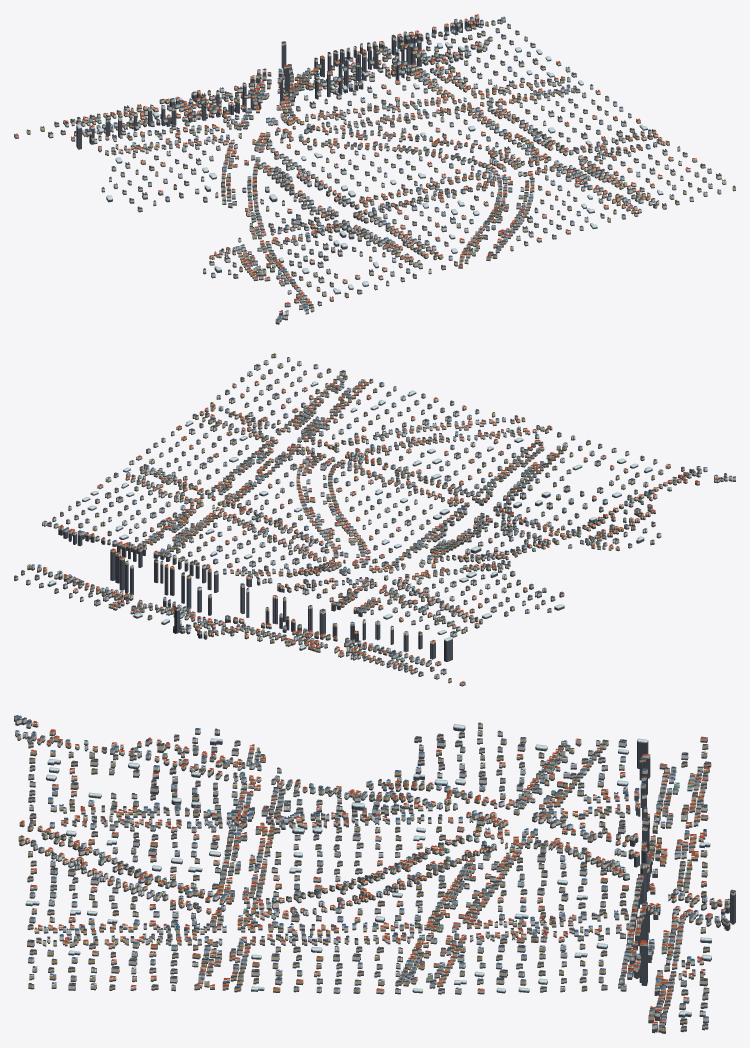
Rendered from osm_buildings_T_E00_S02.glb.
The picture shows the model from 3 angles, top to bottom: view 1: azimuth 30°, elevation 25°; view 2: azimuth 150°, elevation 25°; view 3: azimuth 270°, elevation 25°; orthographic projection. The views are drawn at different scales.
Parts seen in each view (by area): view 1: OSM_T_E00_S02_foundation, OSM_T_E00_S02_wall_cream_stucco, OSM_T_E00_S02_wall_french_ochre, OSM_T_E00_S02_roof_mansard_slate, OSM_T_E00_S02_roof_terracotta, OSM_T_E00_S02_wall_warm_white, OSM_T_E00_S02_roof_alpine_blue, OSM_T_E00_S02_wall_pastel_sand, OSM_T_E00_S02_roof_mansard_deck, OSM_T_E00_S02_greenhouse_blend, OSM_T_E00_S02_balcony_railing; view 2: OSM_T_E00_S02_foundation, OSM_T_E00_S02_wall_cream_stucco, OSM_T_E00_S02_wall_french_ochre, OSM_T_E00_S02_roof_mansard_slate, OSM_T_E00_S02_roof_terracotta, OSM_T_E00_S02_wall_warm_white, OSM_T_E00_S02_roof_alpine_blue, OSM_T_E00_S02_wall_pastel_sand, OSM_T_E00_S02_roof_mansard_deck, OSM_T_E00_S02_greenhouse_blend, OSM_T_E00_S02_balcony_railing; view 3: OSM_T_E00_S02_foundation, OSM_T_E00_S02_wall_cream_stucco, OSM_T_E00_S02_wall_french_ochre, OSM_T_E00_S02_roof_mansard_slate, OSM_T_E00_S02_roof_terracotta, OSM_T_E00_S02_wall_warm_white, OSM_T_E00_S02_roof_alpine_blue, OSM_T_E00_S02_wall_pastel_sand, OSM_T_E00_S02_roof_mansard_deck, OSM_T_E00_S02_greenhouse_blend, OSM_T_E00_S02_balcony_railing, OSM_T_E00_S02_glass_blend_85.
Part boxes in pixels (bbox=[...]): OSM_T_E00_S02_foundation: bbox=[14, 18, 735, 324]; OSM_T_E00_S02_wall_cream_stucco: bbox=[70, 15, 726, 322]; OSM_T_E00_S02_wall_french_ochre: bbox=[26, 21, 735, 307]; OSM_T_E00_S02_roof_mansard_slate: bbox=[27, 20, 735, 316]; OSM_T_E00_S02_roof_terracotta: bbox=[14, 14, 696, 311]; OSM_T_E00_S02_wall_warm_white: bbox=[48, 19, 721, 318]; OSM_T_E00_S02_roof_alpine_blue: bbox=[40, 16, 725, 320]; OSM_T_E00_S02_wall_pastel_sand: bbox=[14, 18, 721, 320]; OSM_T_E00_S02_roof_mansard_deck: bbox=[49, 19, 721, 313]; OSM_T_E00_S02_greenhouse_blend: bbox=[76, 42, 663, 292]; OSM_T_E00_S02_balcony_railing: bbox=[49, 16, 716, 305]; OSM_T_E00_S02_foundation: bbox=[14, 357, 735, 686]; OSM_T_E00_S02_wall_cream_stucco: bbox=[14, 361, 735, 671]; OSM_T_E00_S02_wall_french_ochre: bbox=[21, 354, 723, 682]; OSM_T_E00_S02_roof_mansard_slate: bbox=[14, 353, 727, 679]; OSM_T_E00_S02_roof_terracotta: bbox=[43, 379, 718, 683]; OSM_T_E00_S02_wall_warm_white: bbox=[26, 365, 727, 673]; OSM_T_E00_S02_roof_alpine_blue: bbox=[26, 360, 735, 675]; OSM_T_E00_S02_wall_pastel_sand: bbox=[37, 358, 732, 685]; OSM_T_E00_S02_roof_mansard_deck: bbox=[15, 364, 722, 672]; OSM_T_E00_S02_greenhouse_blend: bbox=[48, 381, 652, 649]; OSM_T_E00_S02_balcony_railing: bbox=[37, 367, 690, 684]; OSM_T_E00_S02_foundation: bbox=[14, 719, 735, 1033]; OSM_T_E00_S02_wall_cream_stucco: bbox=[14, 716, 735, 1028]; OSM_T_E00_S02_wall_french_ochre: bbox=[18, 721, 730, 1031]; OSM_T_E00_S02_roof_mansard_slate: bbox=[15, 717, 735, 1028]; OSM_T_E00_S02_roof_terracotta: bbox=[20, 720, 724, 1023]; OSM_T_E00_S02_wall_warm_white: bbox=[15, 719, 725, 1029]; OSM_T_E00_S02_roof_alpine_blue: bbox=[14, 715, 729, 1026]; OSM_T_E00_S02_wall_pastel_sand: bbox=[17, 717, 725, 1026]; OSM_T_E00_S02_roof_mansard_deck: bbox=[27, 719, 734, 1026]; OSM_T_E00_S02_greenhouse_blend: bbox=[25, 724, 711, 1015]; OSM_T_E00_S02_balcony_railing: bbox=[28, 724, 735, 1022]; OSM_T_E00_S02_glass_blend_85: bbox=[23, 724, 719, 988].
Bounding box in the file's own units: 1894 × 197 × 1984.
